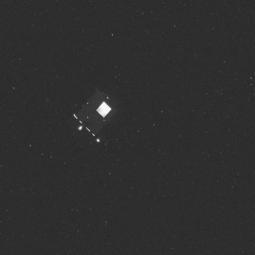proba_3_ocs: (60, 77, 121, 155)
